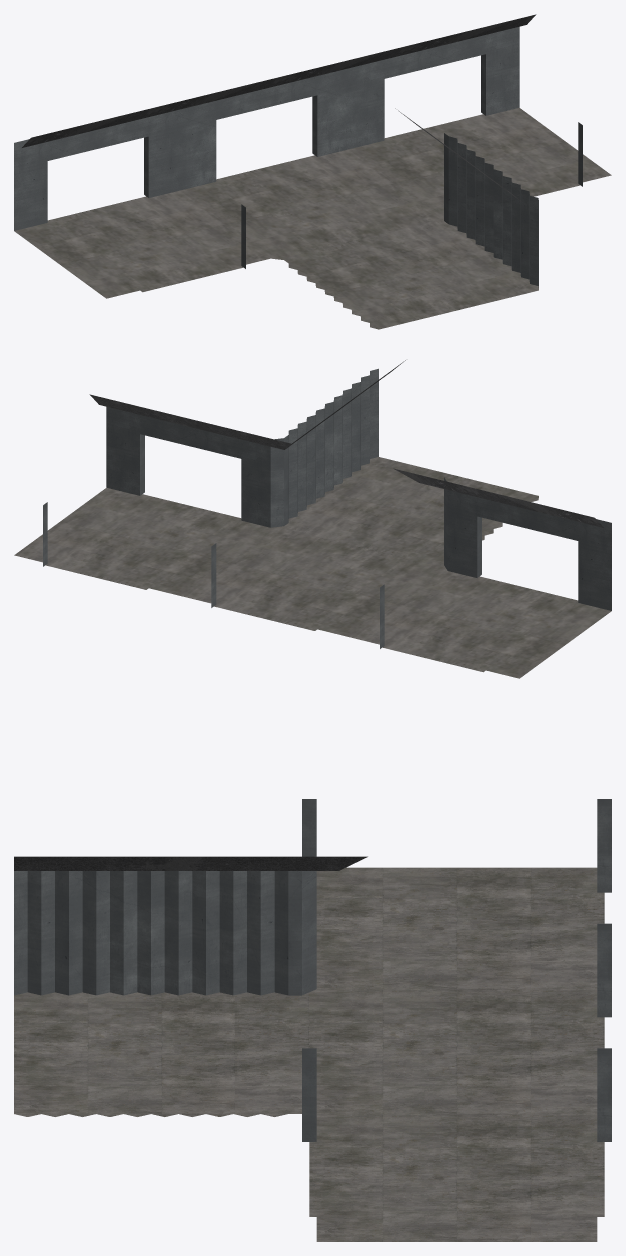
File: hallway_T.glb
3 renders of one model, top to bottom at view 1: azimuth 30°, elevation 25°; view 2: azimuth 150°, elevation 25°; view 3: azimuth 270°, elevation 25°, orthographic. The views are drawn at different scales.
Visible parts, largest first — view 1: TShapeHallway -col; view 2: TShapeHallway -col; view 3: TShapeHallway -col.
Boxes of the visible parts, bbox=[...] form: TShapeHallway -col: bbox=[14, 14, 611, 329]; TShapeHallway -col: bbox=[14, 360, 611, 678]; TShapeHallway -col: bbox=[14, 799, 611, 1241].
Bounding box in the file's own units: 30 × 6 × 20.25.
Materials: 3 (3 with a texture image).
